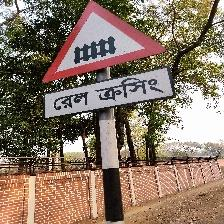Rail-crossing: (41, 0, 173, 122)
